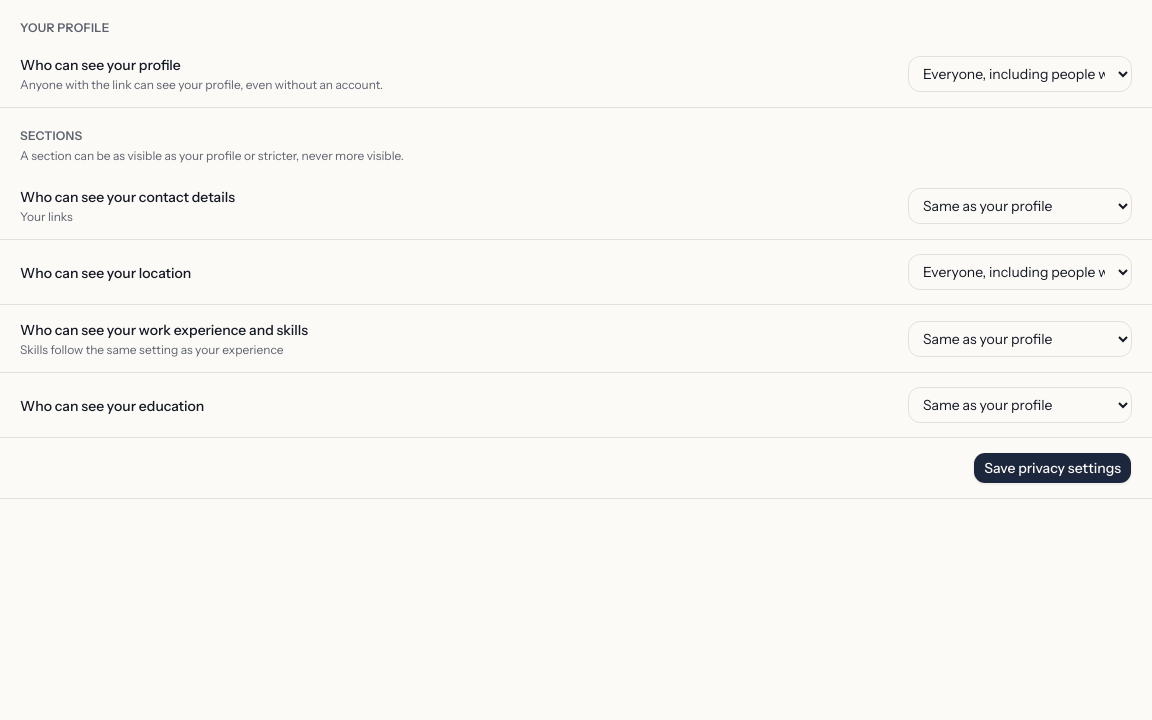
it: PrivacyForm › resets a now-looser location override when the profile level is tightened
Step 1. Select "Only me" in the dropdown labelled "Who can see your profile" → point(1020, 74), box x1=908 y1=56 x2=1132 y2=92
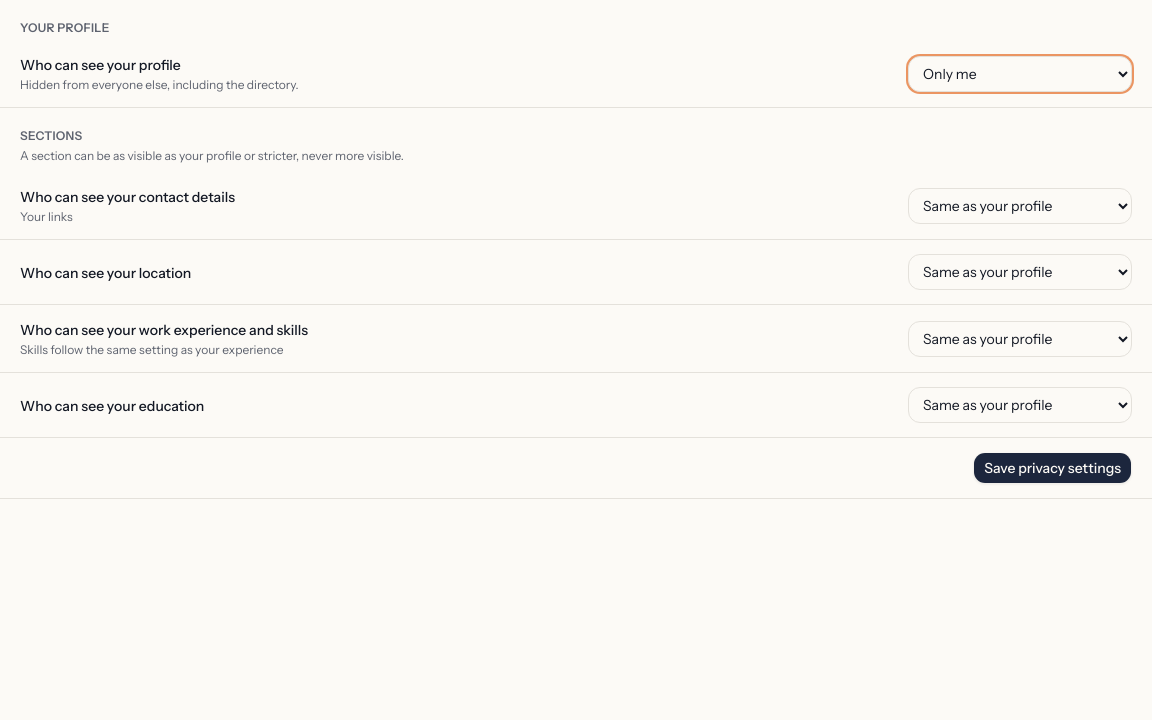
Expected: the dropdown labelled "Who can see your location" shows "Same as your profile", x1=908 y1=254 x2=1132 y2=290
